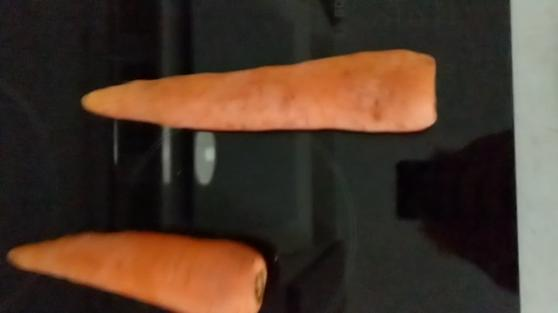carrot: (77, 47, 436, 133), (6, 224, 269, 313)
